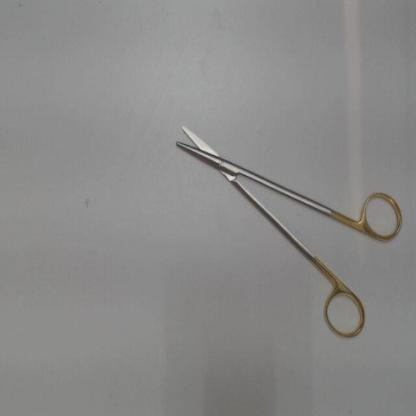7 Metzenbaum Scissors: (176, 124, 404, 343)
